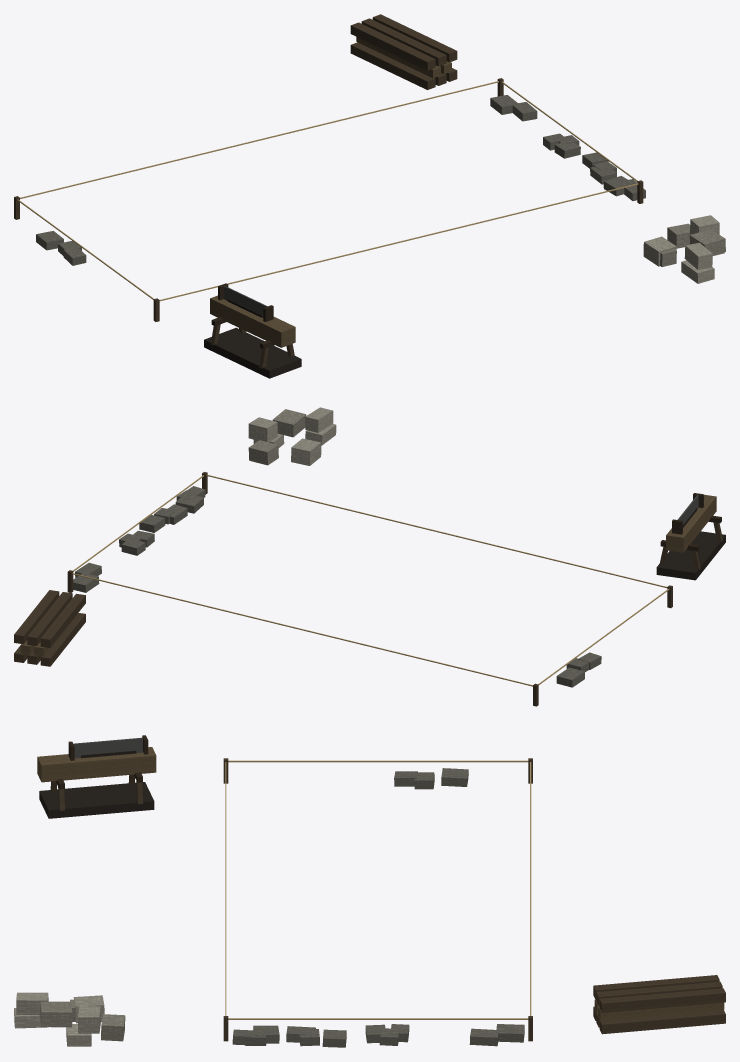
Rendered from rat-2-site.glb.
3 renders of one model, top to bottom at view 1: azimuth 30°, elevation 25°; view 2: azimuth 150°, elevation 25°; view 3: azimuth 270°, elevation 25°, orthographic. The views are drawn at different scales.
Size of the model in its own units: 27.29 by 2.95 by 30.36.
Materials: 10 (7 with a texture image).
